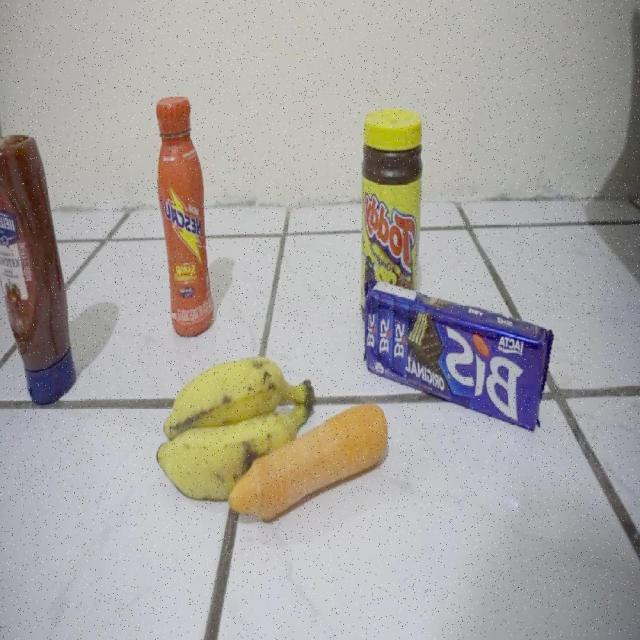Banana: (148, 355, 308, 452)
Carrot: (311, 403, 391, 491)
ChocolateMilk: (156, 94, 213, 331)
ChocolatePowder: (363, 109, 423, 278)
Ketchup: (1, 131, 74, 420)
